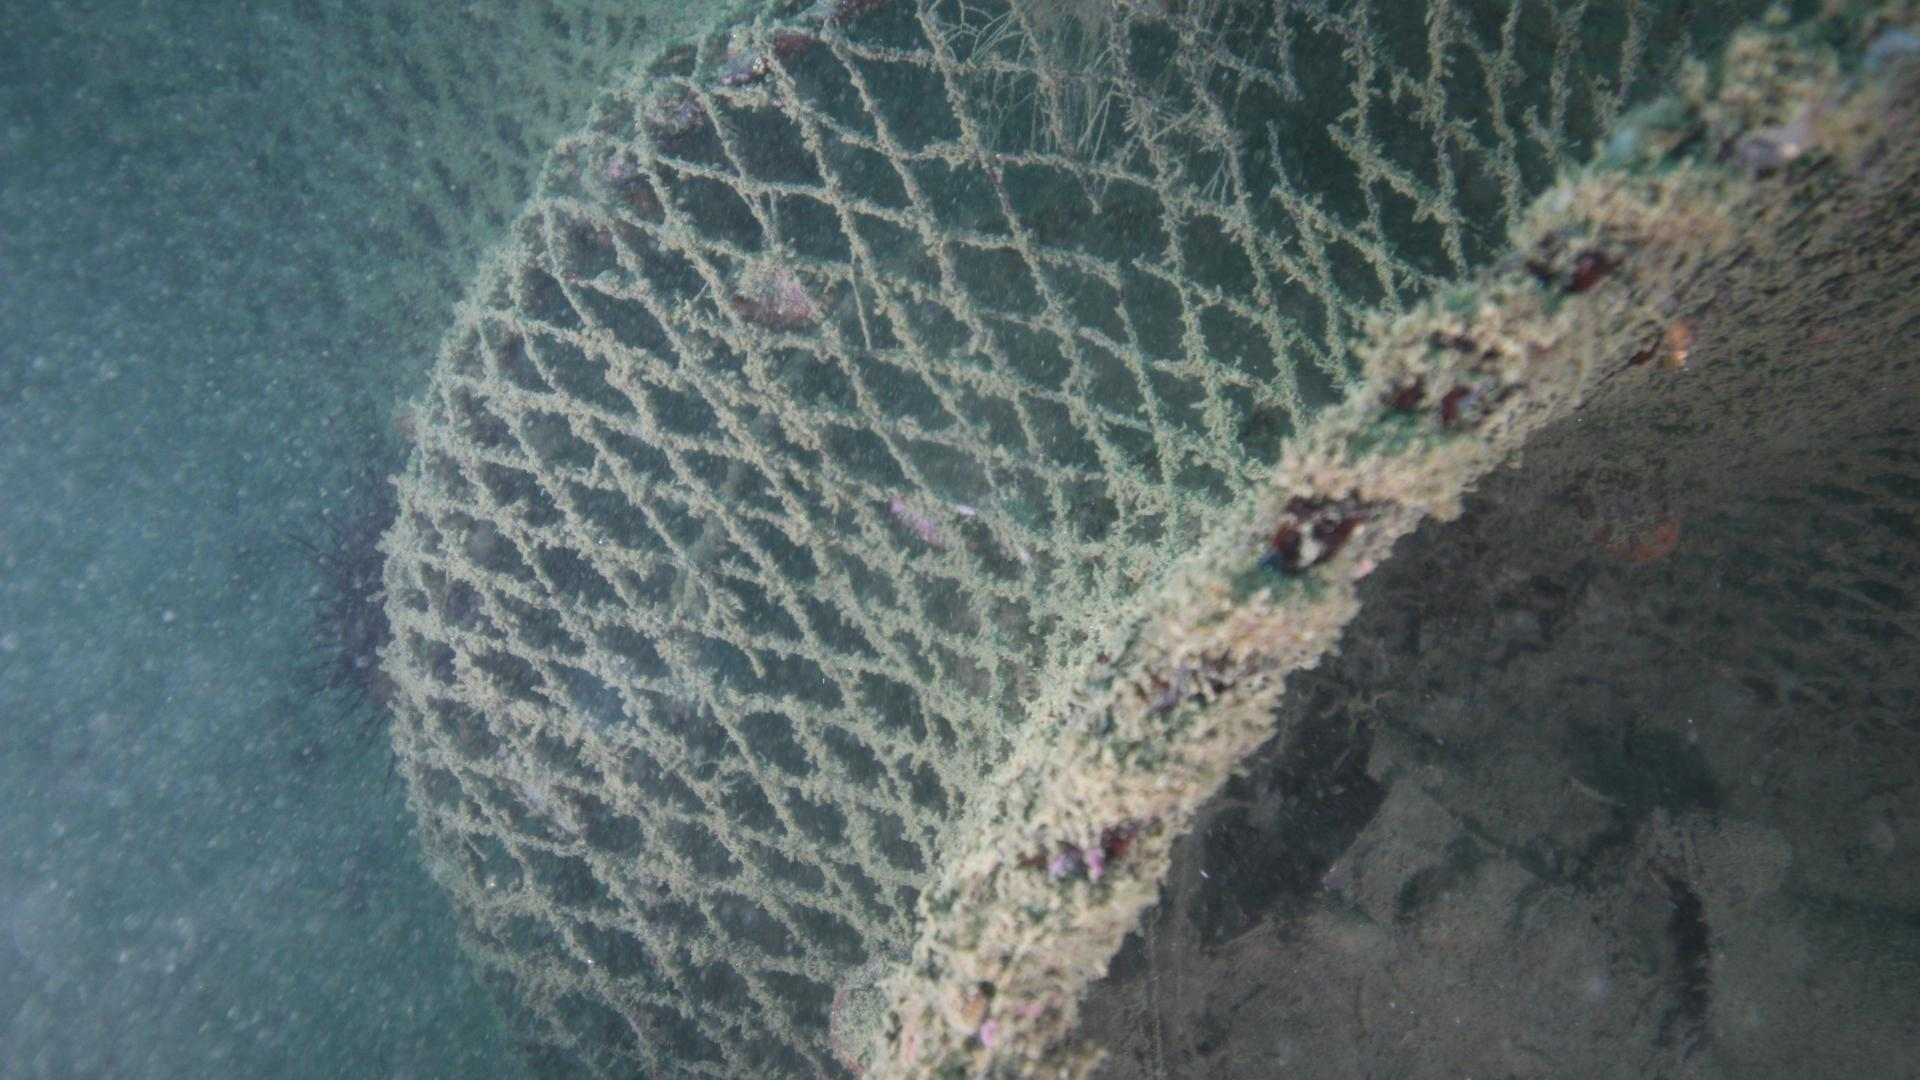spring fish trap: (115, 0, 1920, 1080)
